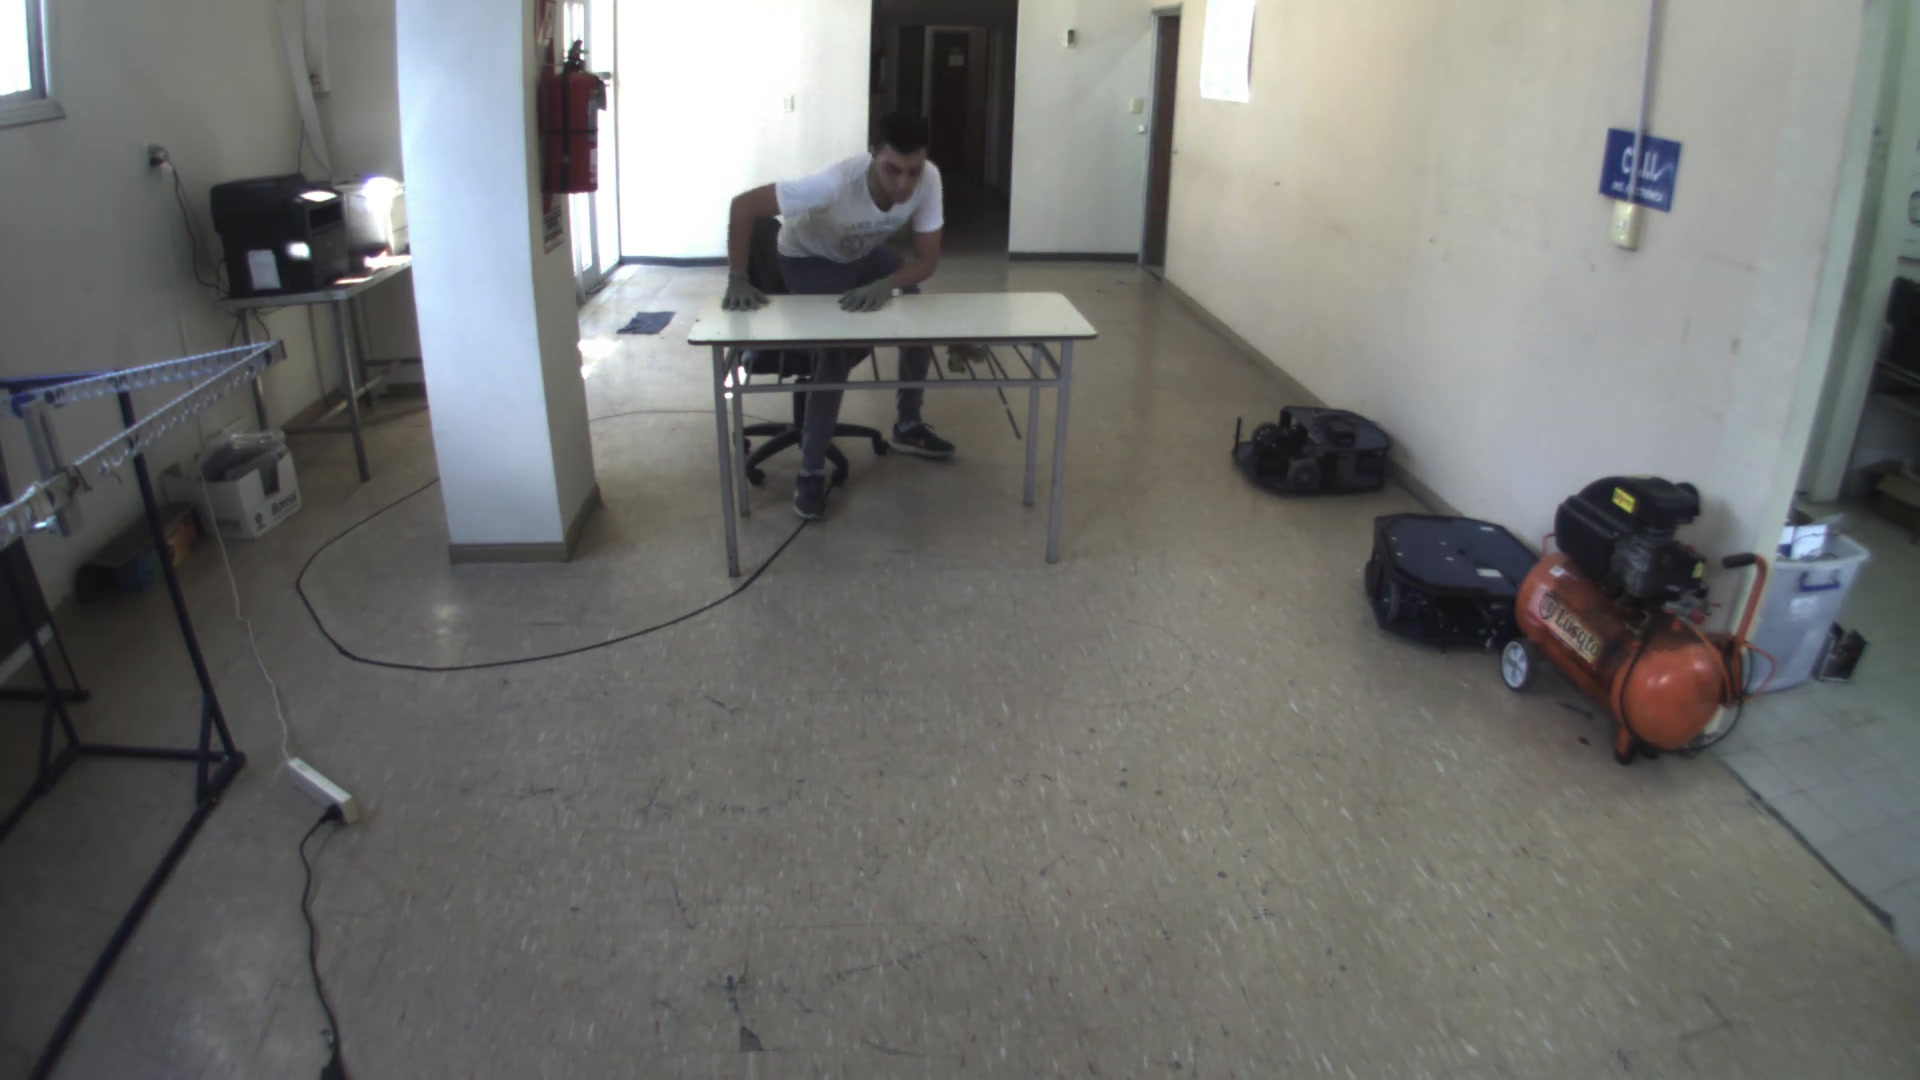hand: (831, 270, 909, 320), (709, 269, 773, 323)
